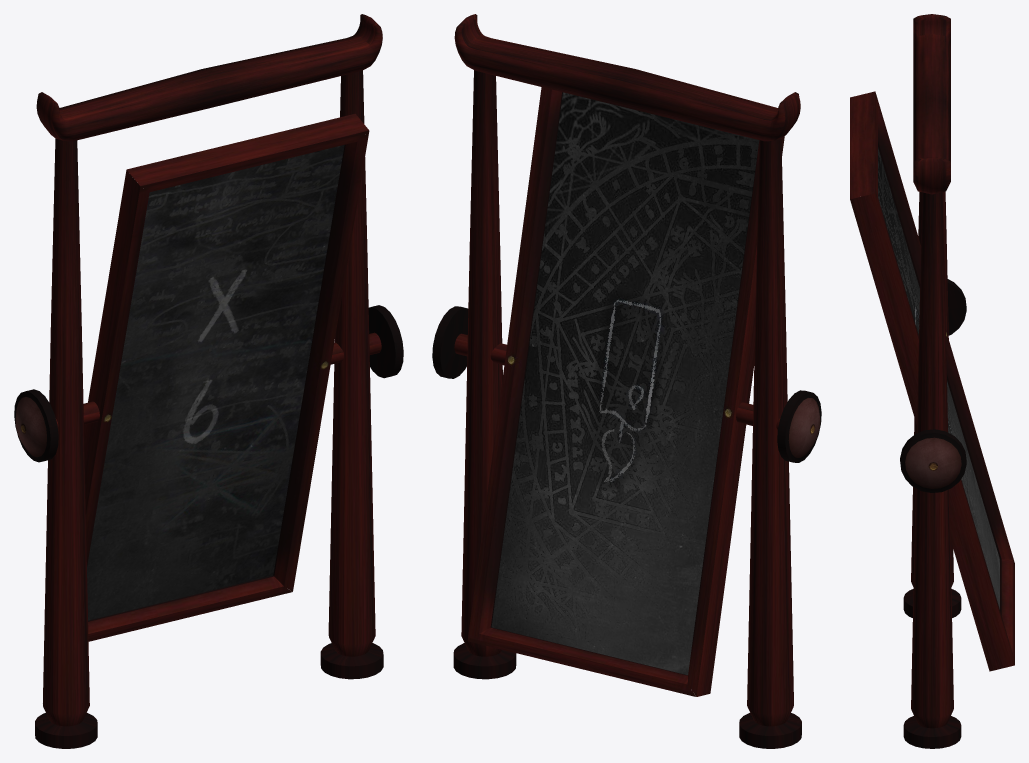
File: indice.glb
3 renders of one model, left to right at view 1: azimuth 30°, elevation 25°; view 2: azimuth 150°, elevation 25°; view 3: azimuth 270°, elevation 25°, orthographic. The views are drawn at different scales.
Visible parts, largest first — view 1: Chalkboard1, Frame, Post_L, Post_R, Post_TOP, Handle_L, Handle_R; view 2: Chalkboard1, Frame, Post_L, Post_R, Post_TOP, Handle_L, Handle_R; view 3: Frame, Post_R, Post_TOP, Chalkboard1, Handle_R, Post_L, Handle_L.
Boxes of the visible parts, box(x1,y1,x2,y2) form: Chalkboard1: box(87, 145, 344, 620); Frame: box(84, 113, 369, 641); Post_L: box(35, 138, 97, 748); Post_R: box(320, 70, 383, 679); Post_TOP: box(36, 14, 382, 141); Handle_L: box(14, 389, 99, 462); Handle_R: box(330, 305, 403, 378); Chalkboard1: box(491, 92, 759, 675); Frame: box(467, 87, 784, 696); Post_L: box(739, 139, 801, 748); Post_R: box(453, 70, 516, 679); Post_TOP: box(454, 14, 800, 141); Handle_L: box(736, 390, 821, 462); Handle_R: box(432, 306, 506, 378); Frame: box(850, 91, 1014, 671); Post_R: box(903, 192, 961, 748); Post_TOP: box(913, 14, 950, 194); Chalkboard1: box(878, 147, 999, 609); Handle_R: box(900, 429, 966, 492); Post_L: box(903, 191, 961, 617); Handle_L: box(947, 279, 966, 335).
Size of the model in its own units: 2.07 by 3.41 by 0.8686.
2 materials, 2 textured.
